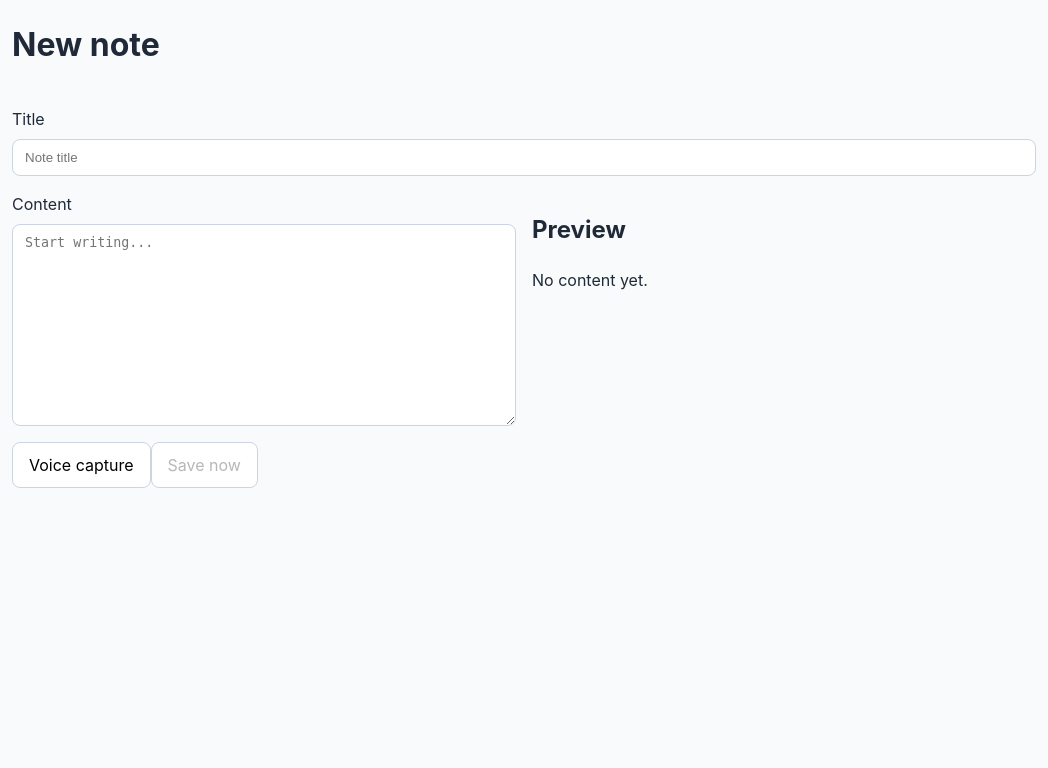
NoteEditor › shows validation error when title is missing
Type "Some content" into the text box with placeholder "Start writing...". click: (264, 325)
box: [12,224,516,426]
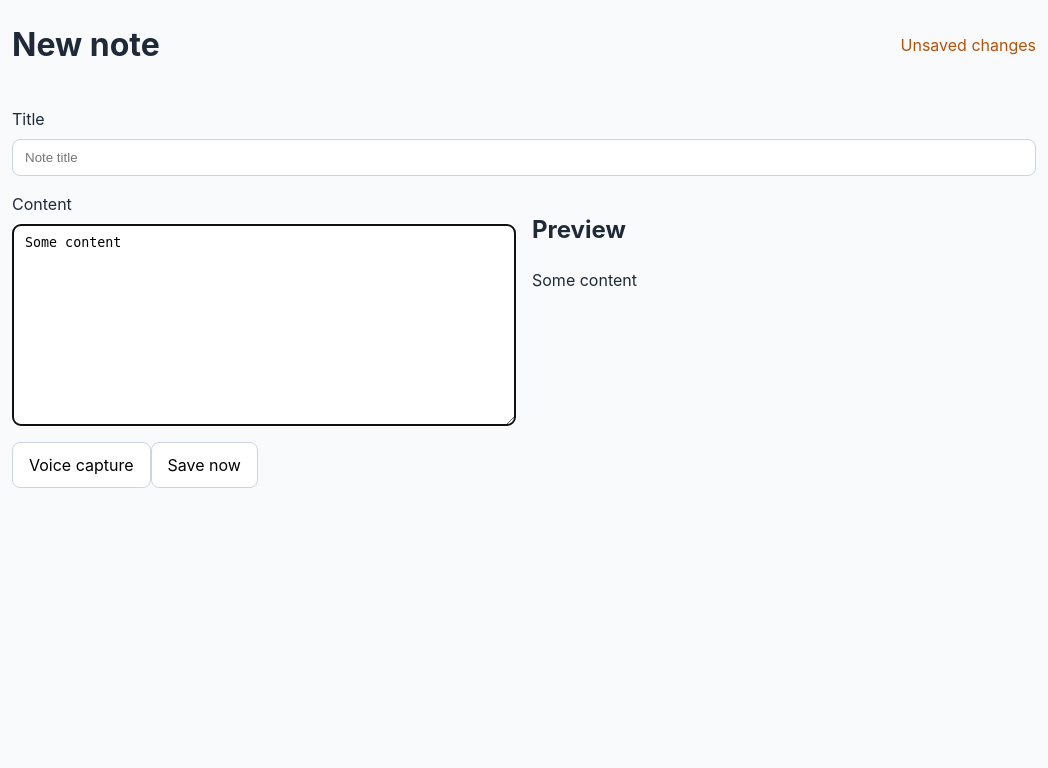
Click the button "Save now". click: (204, 465)
box: [150,442,258,488]
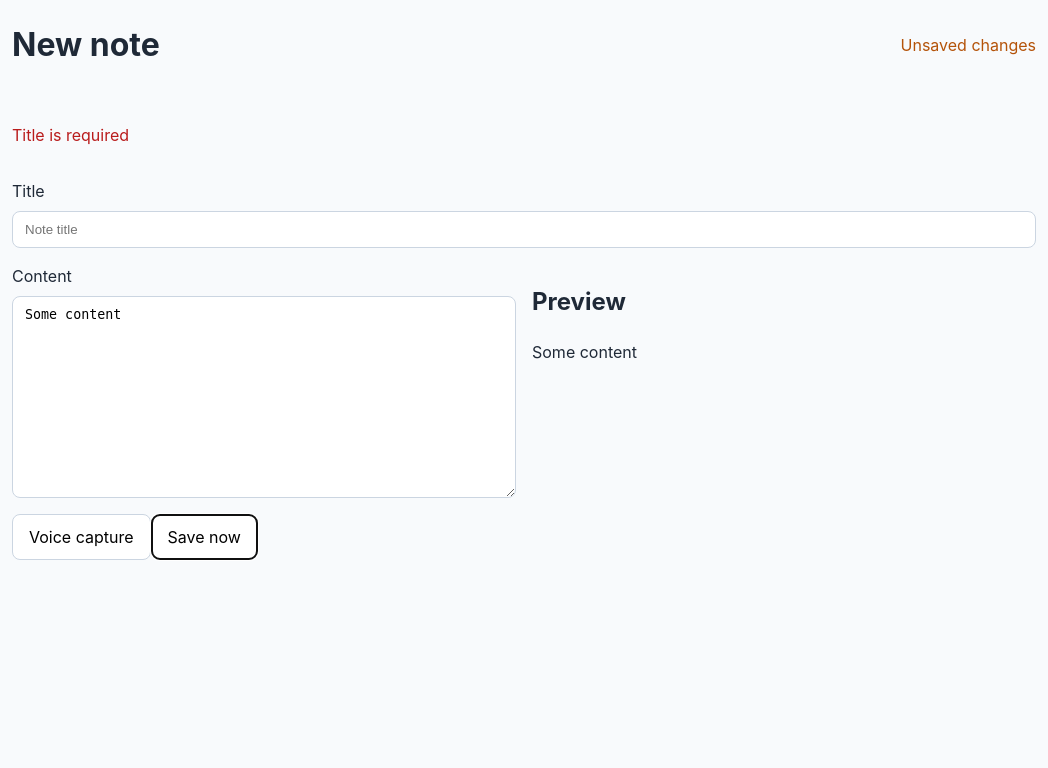
Now the text "Title is required" is shown, box [12,125,129,145]
